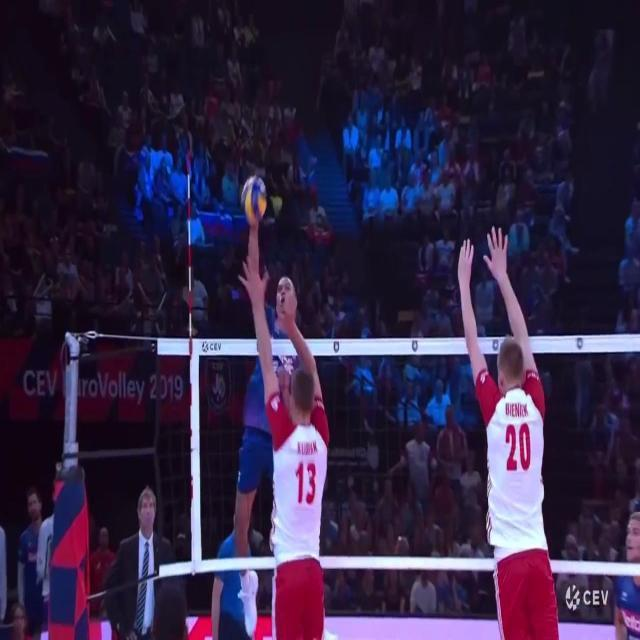volleyball: (241, 176, 266, 221)
